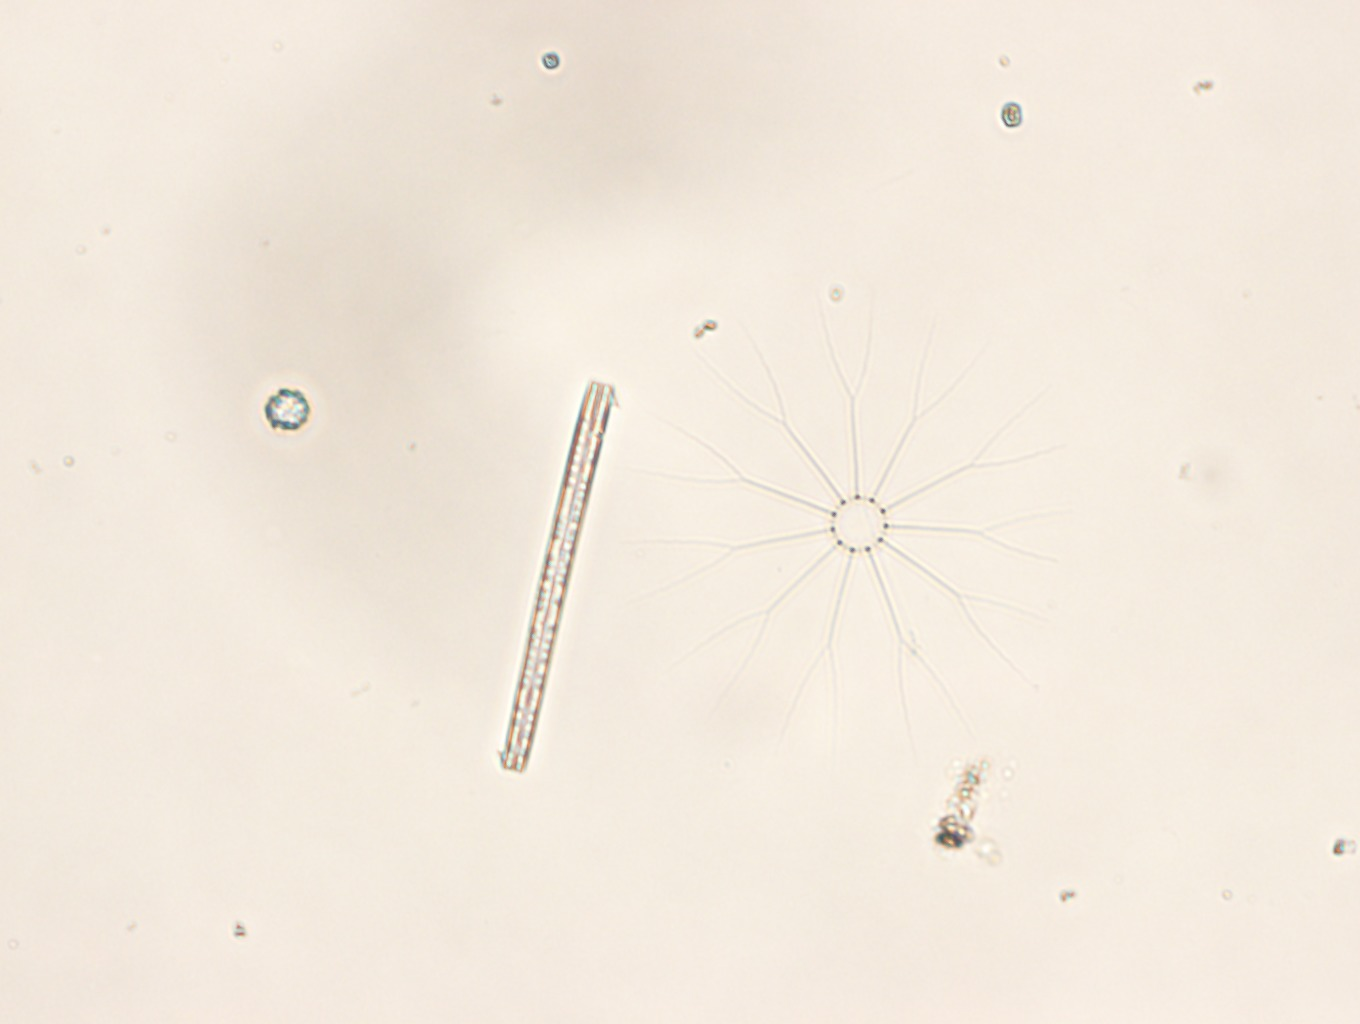bacteriastrum: (628, 295, 1078, 749)
thalassionema frauenfeldii: (498, 379, 617, 776)
